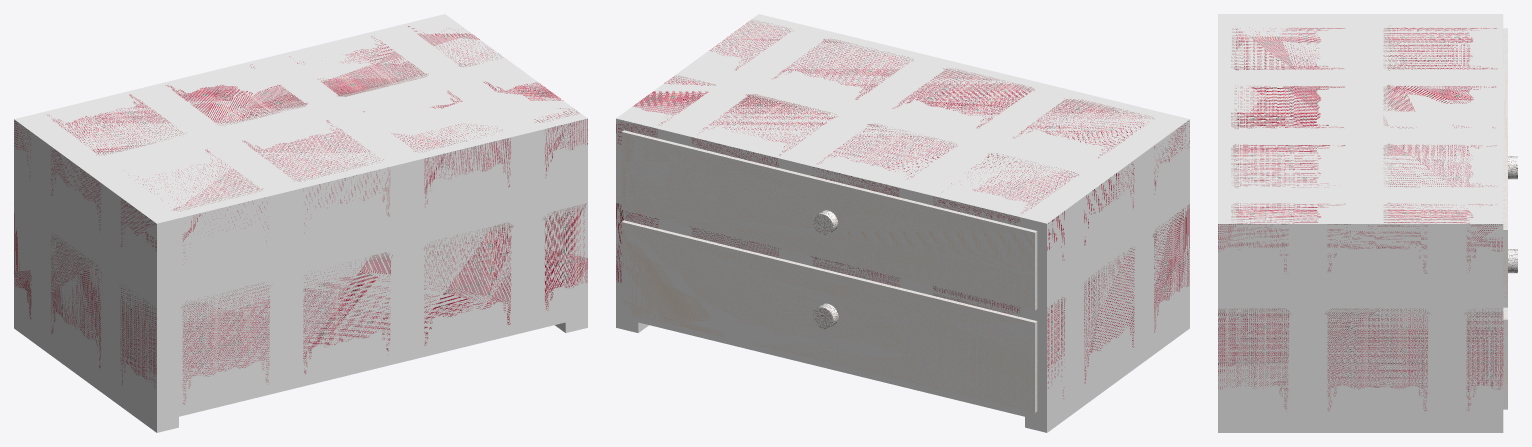
3 renders of one model, left to right at view 1: azimuth 30°, elevation 25°; view 2: azimuth 150°, elevation 25°; view 3: azimuth 270°, elevation 25°, orthographic.
Parts seen in each view (by area): view 1: mesh1_mesh1-geometry; view 2: mesh1_mesh1-geometry; view 3: mesh1_mesh1-geometry.
Part boxes in pixels (x1,y1,x2,y2): mesh1_mesh1-geometry: [14, 14, 587, 432]; mesh1_mesh1-geometry: [616, 14, 1189, 432]; mesh1_mesh1-geometry: [1218, 14, 1517, 432].
Bounding box in the file's own units: 0.7958 × 0.369 × 0.4801.
